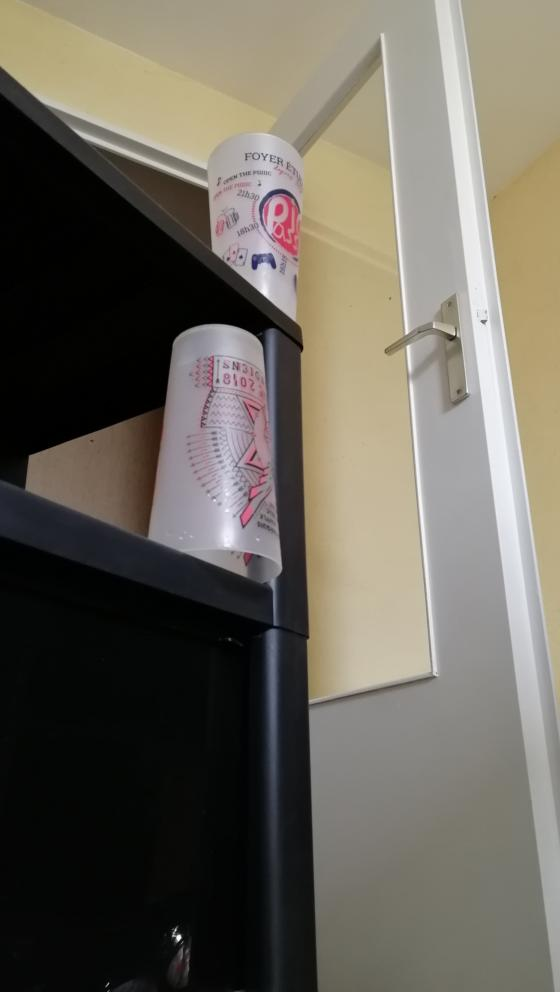ecocup: (147, 323, 283, 584), (207, 133, 304, 322)
